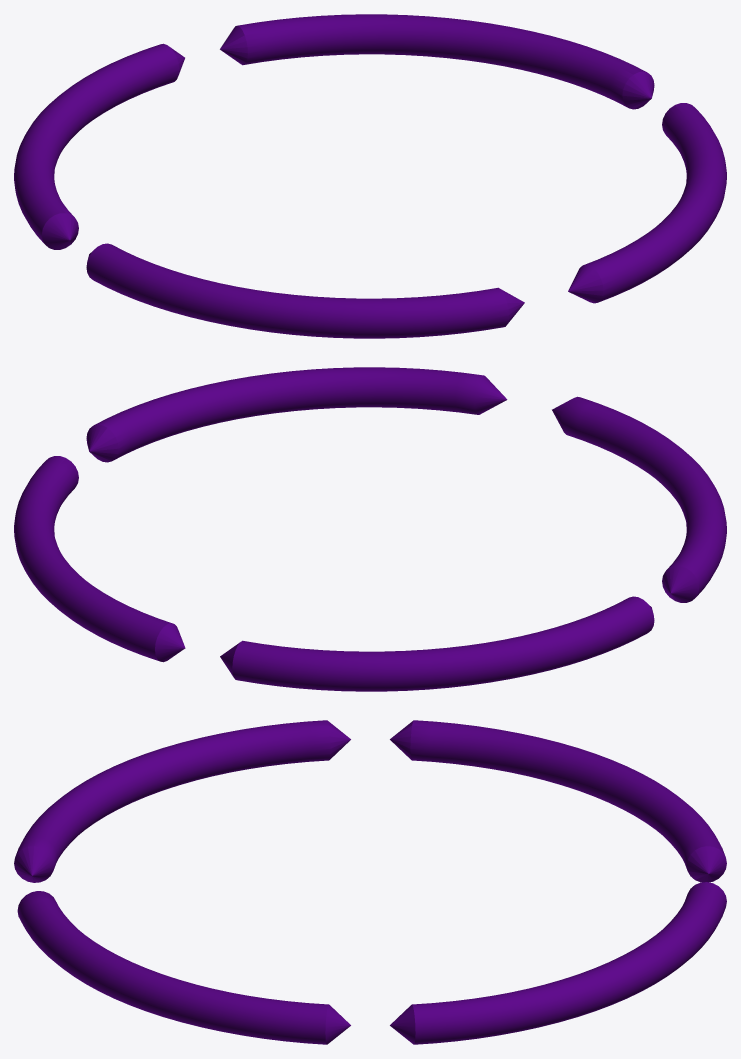
File: Ring 4.gltf
3 renders of one model, top to bottom at view 1: azimuth 30°, elevation 25°; view 2: azimuth 150°, elevation 25°; view 3: azimuth 270°, elevation 25°, orthographic.
Parts seen in each view (by area): view 1: Object 3; view 2: Object 3; view 3: Object 3.
Part boxes in pixels (<box>): Object 3: <box>14,14,726,338</box>; Object 3: <box>14,367,726,691</box>; Object 3: <box>14,720,726,1044</box>.
Size of the model in its own units: 0.1052 by 0.006 by 0.1052.
